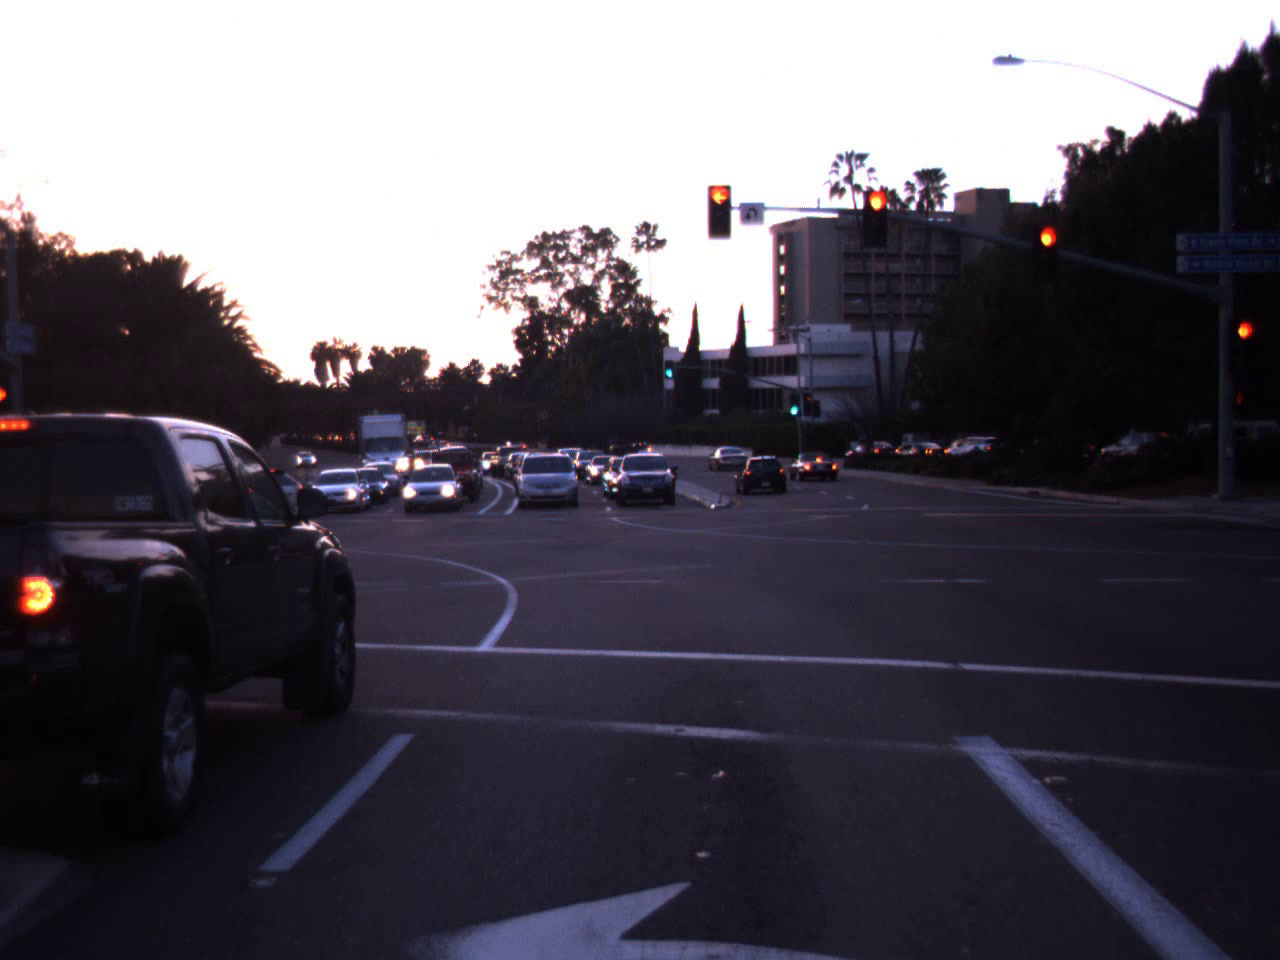go: (661, 345, 676, 380), (787, 386, 802, 416)
stop: (694, 177, 745, 258), (852, 187, 900, 263), (1025, 226, 1064, 298), (1226, 325, 1250, 365)
